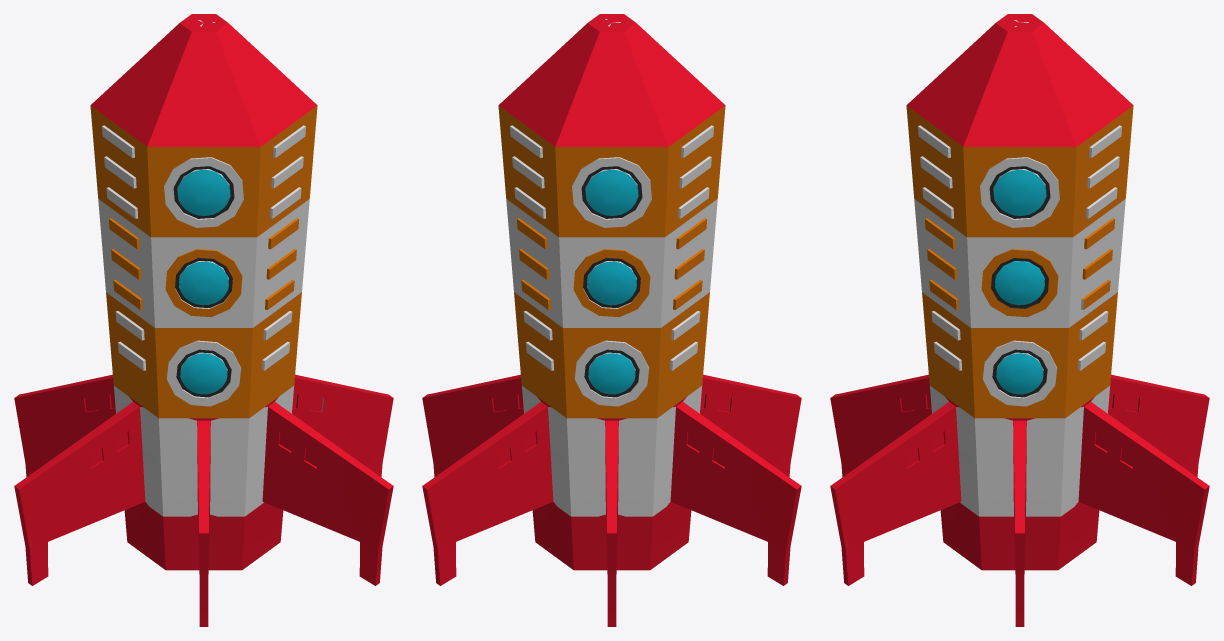
The model's file is boss.fbx.
3 renders of one model, left to right at view 1: azimuth 30°, elevation 25°; view 2: azimuth 150°, elevation 25°; view 3: azimuth 270°, elevation 25°, orthographic.
Visible parts, largest first — view 1: rocket006; view 2: rocket006; view 3: rocket006.
Part boxes in pixels (x1,y1,x2,y2): rocket006: [14, 14, 393, 626]; rocket006: [422, 14, 801, 626]; rocket006: [830, 14, 1209, 626].
Size of the model in its own units: 84.31 by 112 by 73.97.
